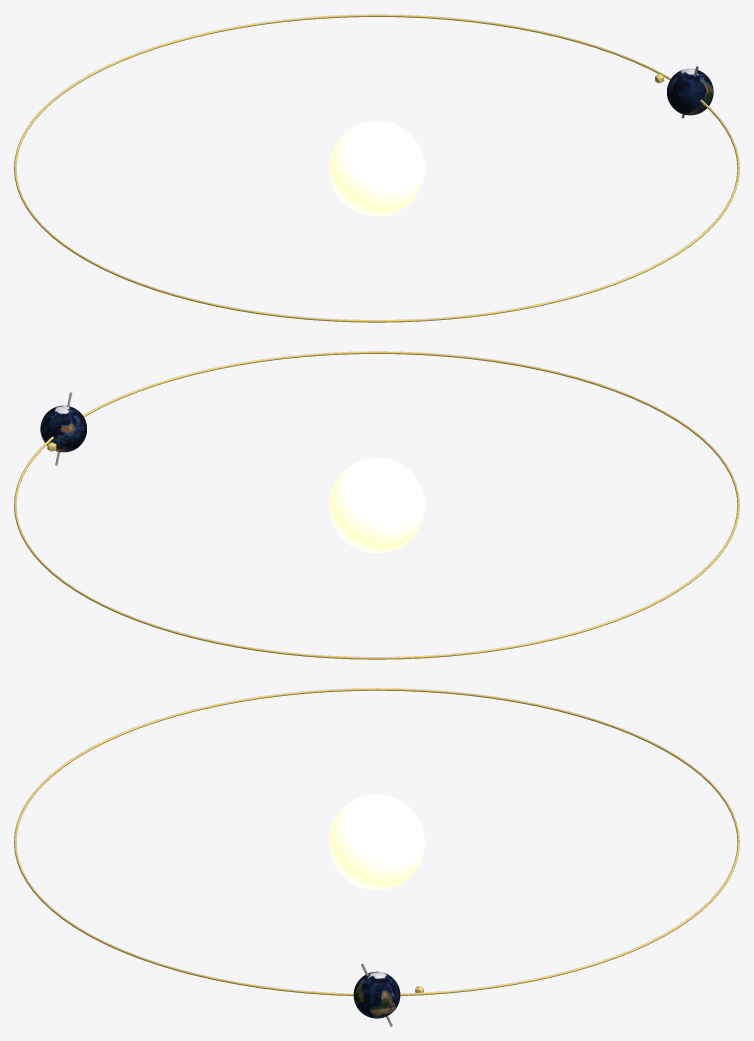
Rendered from seasons.glb.
3 renders of one model, top to bottom at view 1: azimuth 30°, elevation 25°; view 2: azimuth 150°, elevation 25°; view 3: azimuth 270°, elevation 25°, orthographic.
Parts seen in each view (by area): view 1: Season_Sun, Season_Orbit, Season_Earth; view 2: Season_Sun, Season_Orbit, Season_Earth; view 3: Season_Sun, Season_Orbit, Season_Earth.
Part boxes in pixels (bbox=[...]): Season_Sun: bbox=[329, 120, 424, 216]; Season_Orbit: bbox=[14, 14, 739, 322]; Season_Earth: bbox=[667, 68, 713, 115]; Season_Sun: bbox=[329, 457, 424, 553]; Season_Orbit: bbox=[14, 351, 739, 659]; Season_Earth: bbox=[40, 405, 86, 452]; Season_Sun: bbox=[329, 794, 424, 890]; Season_Orbit: bbox=[14, 688, 739, 995]; Season_Earth: bbox=[353, 971, 400, 1018].
Size of the model in its own units: 7.03 by 0.9 by 6.82.
4 materials, 1 textured.
